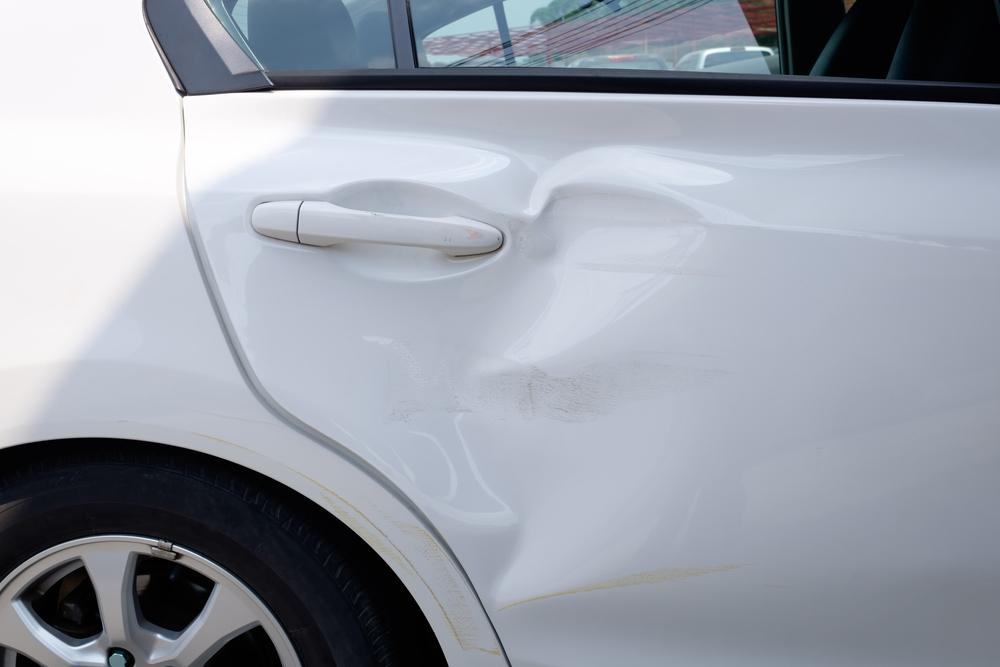dent: (382, 120, 717, 611)
